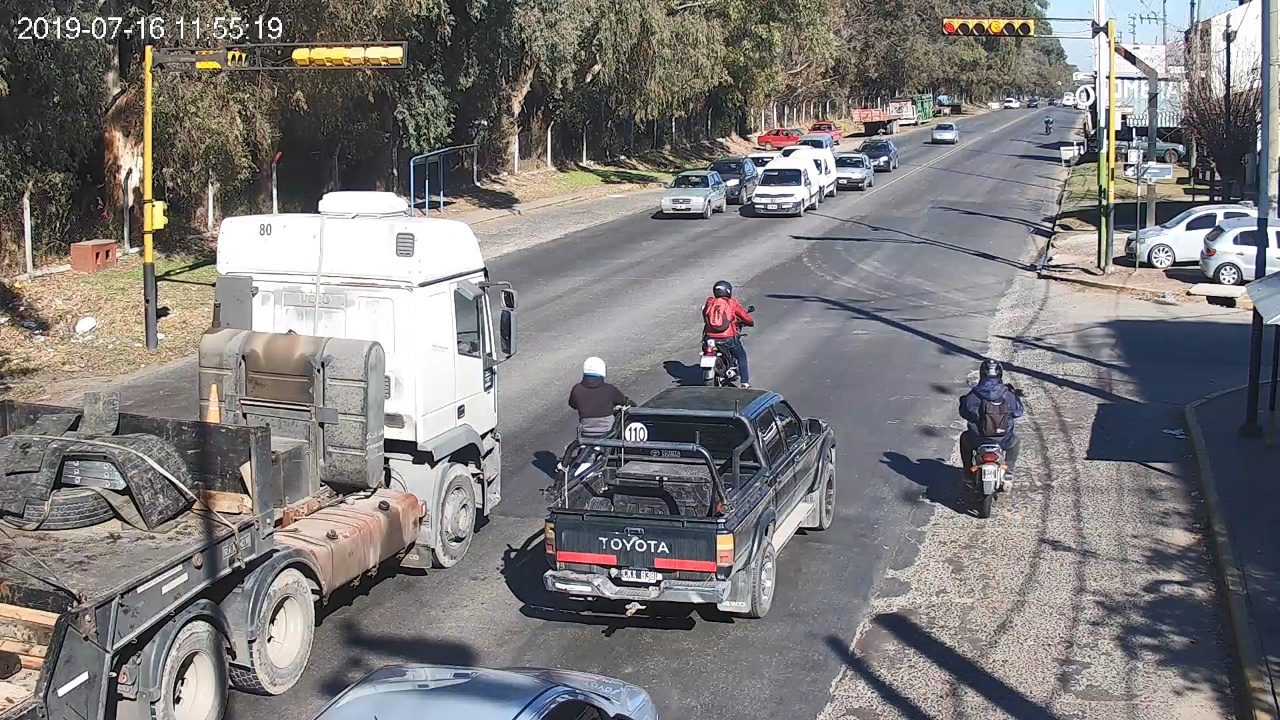motorcycle: (959, 384, 1025, 519), (698, 305, 755, 388)
traffic light: (943, 17, 1034, 36)
truck: (6, 191, 517, 720)
